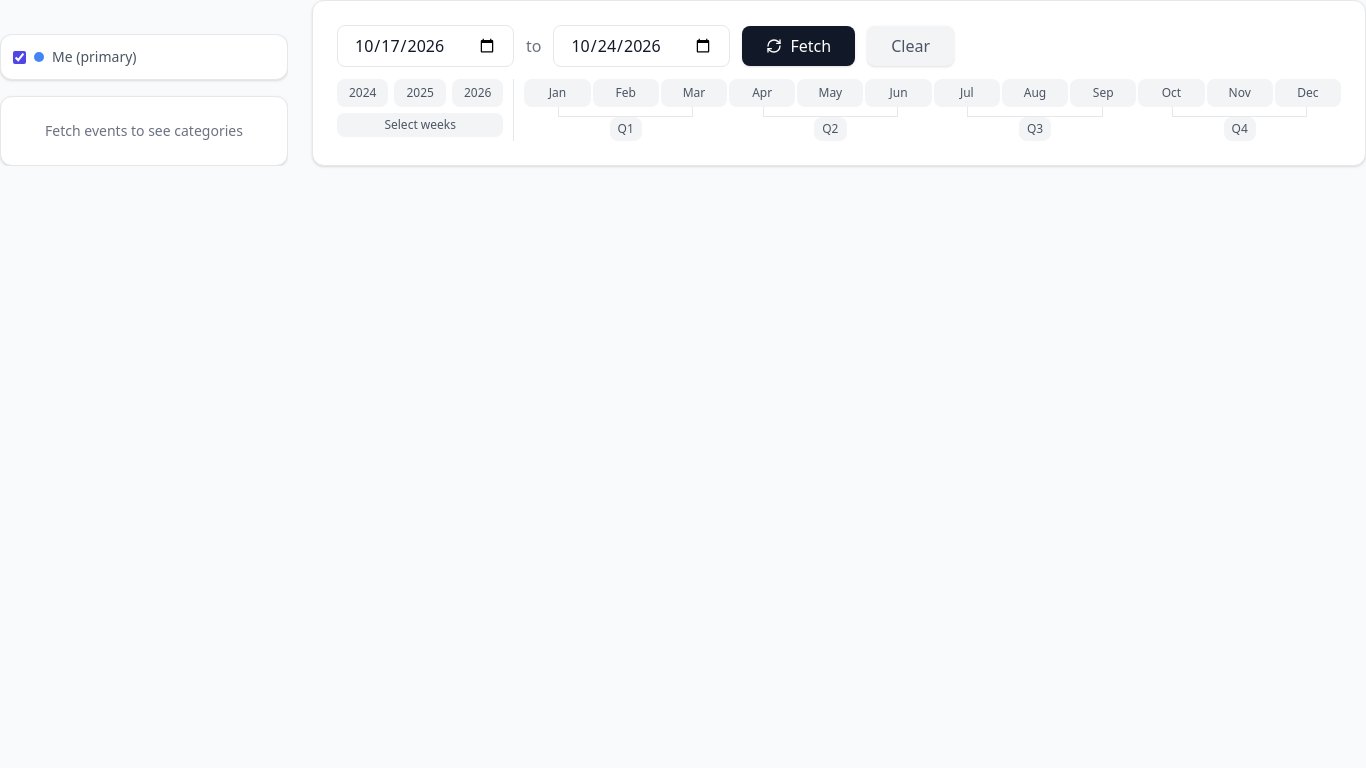
Dashboard › hides excluded keywords from the table and from the sidebar counts
The image size is (1366, 768).
Click the button "Fetch" at (799, 46), box left=742, top=26, right=855, bottom=66
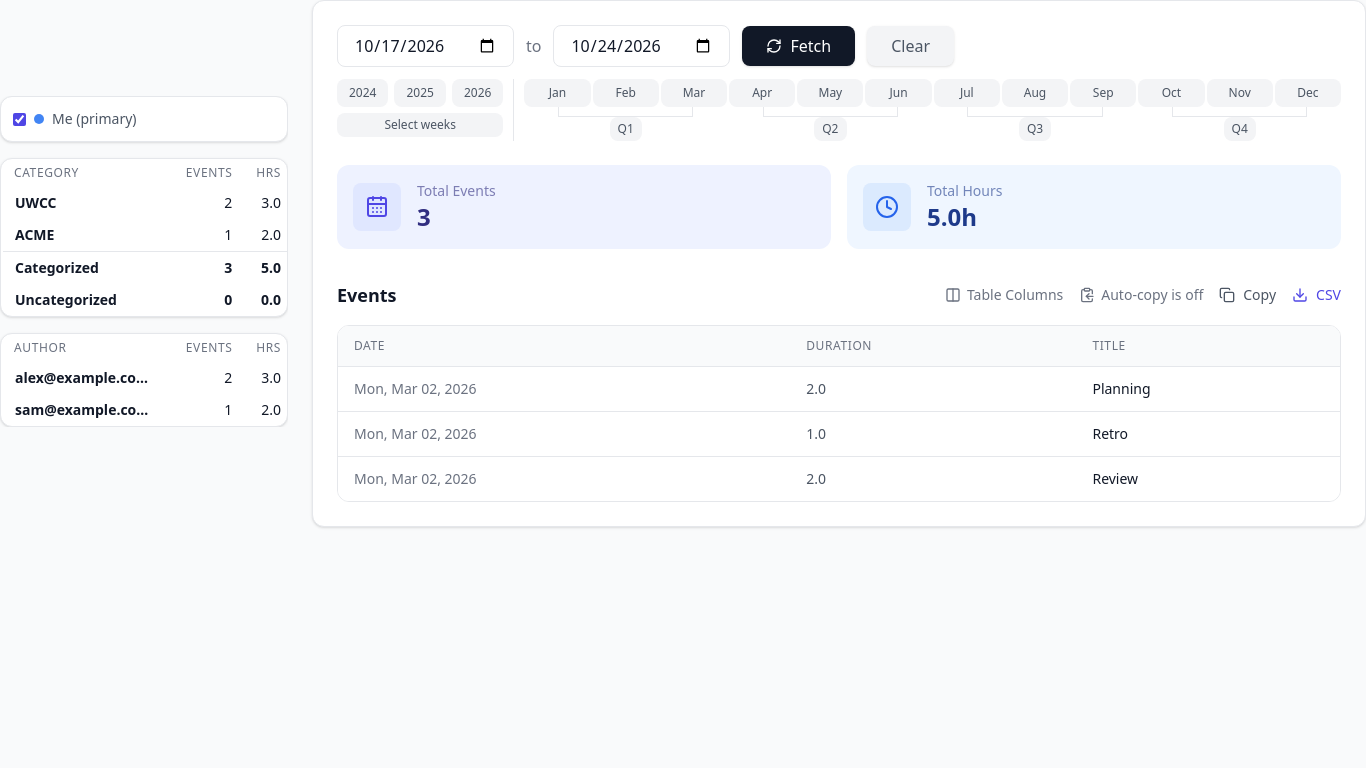
Result: the text "Planning" is shown at left=1076, top=366, right=1340, bottom=412
Result: the text "3" is shown at left=417, top=200, right=431, bottom=233
